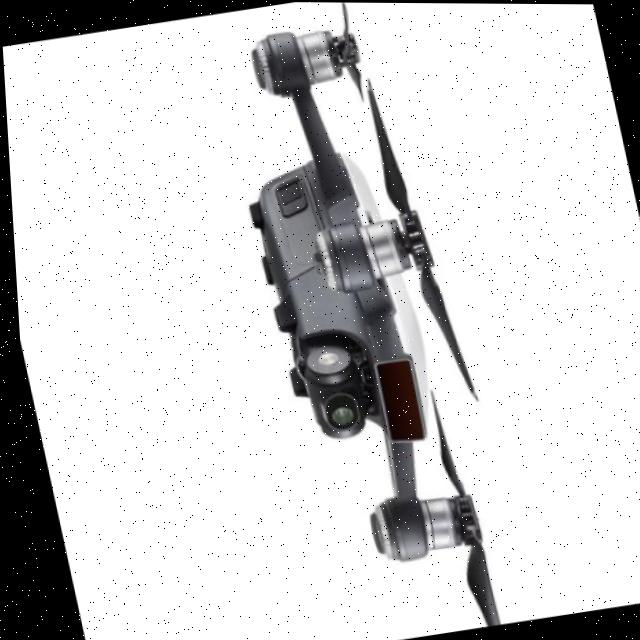drones: (163, 1, 557, 640)
